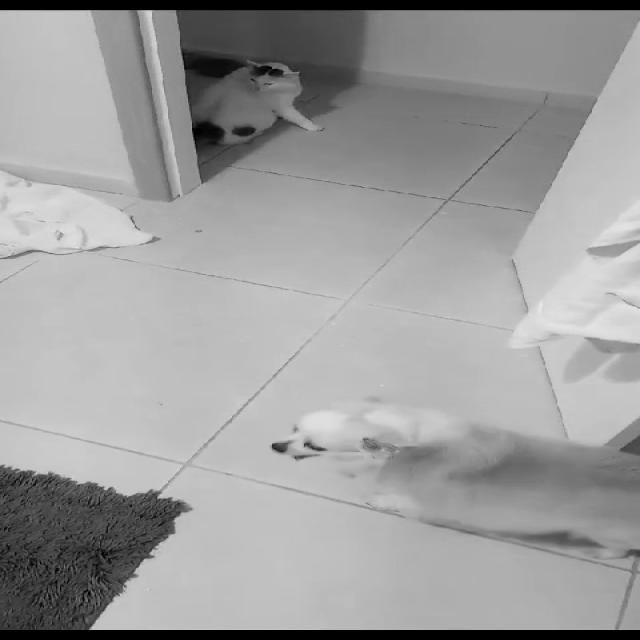Simba: (180, 44, 340, 158)
Theo: (270, 398, 639, 556)
